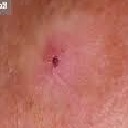Actinic: (43, 50, 66, 72)
